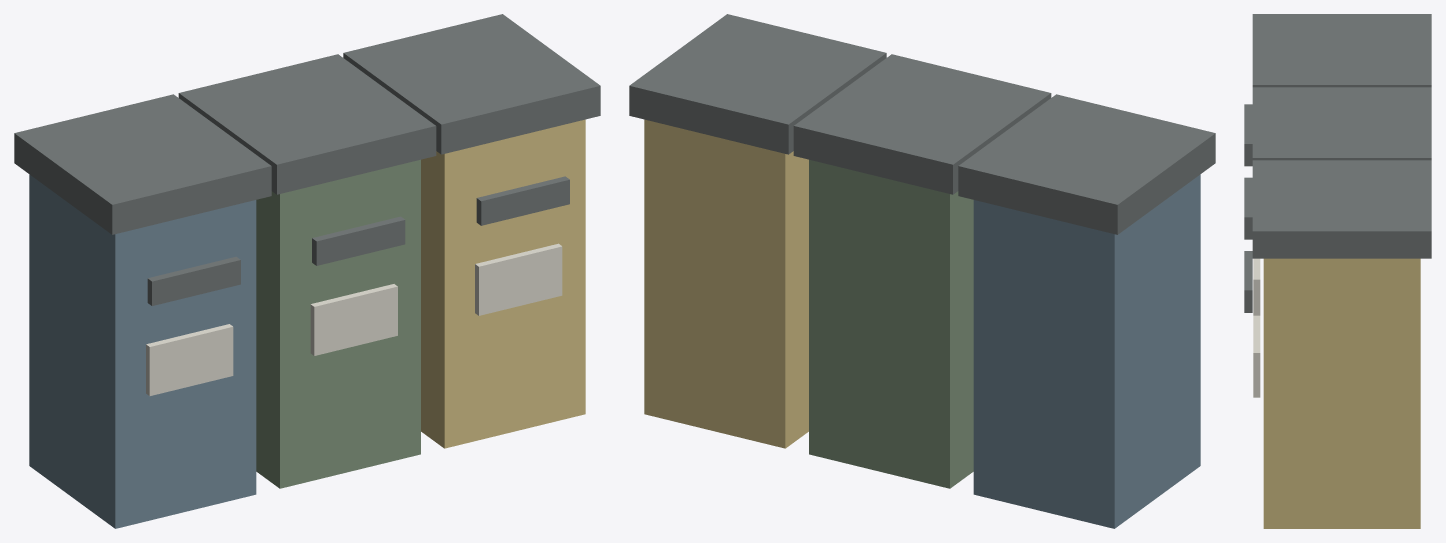
The model's file is recycling-containers.glb.
3 views of the same model, side by side, from view 1: azimuth 30°, elevation 25°; view 2: azimuth 150°, elevation 25°; view 3: azimuth 270°, elevation 25° (orthographic). The views are drawn at different scales.
Parts seen in each view (by area): view 1: lid, container body, container body.002, container body.001, front instruction panel; view 2: container body, lid, container body.002, container body.001; view 3: lid, container body.002, front instruction panel.
Part boxes in pixels (x1=…): lid: x1=14, y1=14, x2=600, y2=305; container body: x1=29, y1=174, x2=256, y2=528; container body.002: x1=421, y1=119, x2=585, y2=448; container body.001: x1=256, y1=159, x2=420, y2=488; front instruction panel: x1=146, y1=243, x2=562, y2=395; container body: x1=973, y1=174, x2=1200, y2=528; lid: x1=629, y1=14, x2=1215, y2=234; container body.002: x1=644, y1=119, x2=808, y2=448; container body.001: x1=809, y1=159, x2=973, y2=488; lid: x1=1244, y1=14, x2=1431, y2=312; container body.002: x1=1263, y1=258, x2=1420, y2=528; front instruction panel: x1=1253, y1=258, x2=1260, y2=397.
Size of the model in its own units: 1.87 by 1.21 by 0.68.
